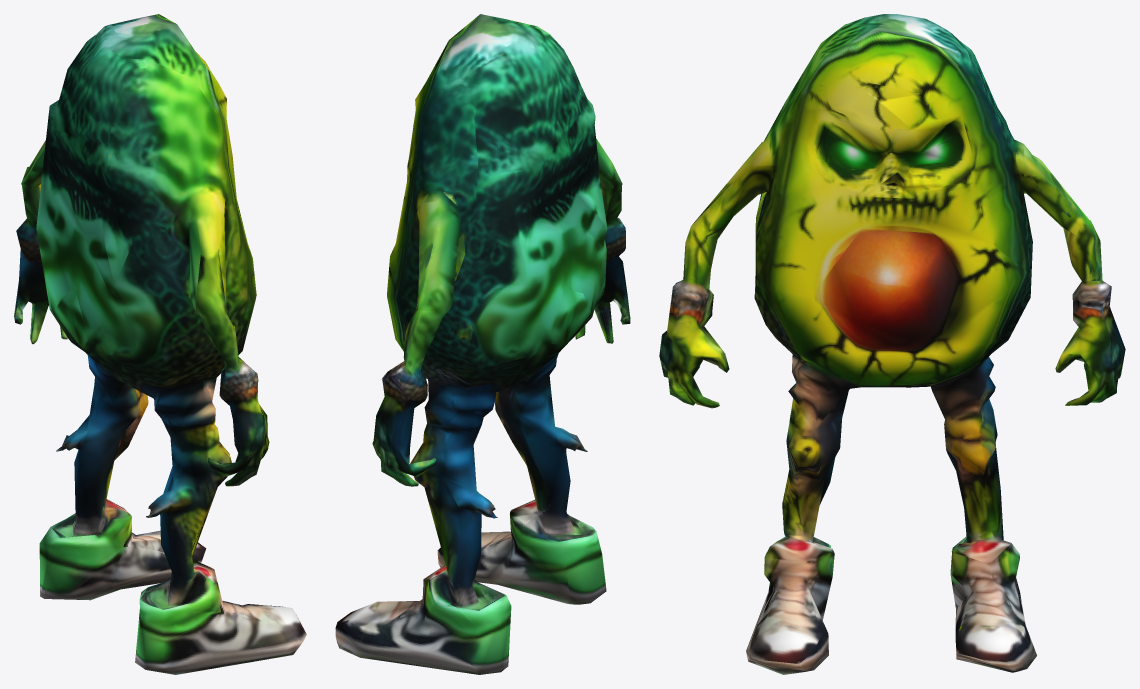
The model's file is zombie.glb.
3 views of the same model, side by side, from view 1: azimuth 30°, elevation 25°; view 2: azimuth 150°, elevation 25°; view 3: azimuth 270°, elevation 25° (orthographic).
Parts seen in each view (by area): view 1: Mesh1_Mesh1.003_Material.003_0; view 2: Mesh1_Mesh1.003_Material.003_0; view 3: Mesh1_Mesh1.003_Material.003_0.
Part boxes in pixels (box(x1,y1,x2,y2)): Mesh1_Mesh1.003_Material.003_0: box(14, 14, 306, 674); Mesh1_Mesh1.003_Material.003_0: box(335, 14, 630, 674); Mesh1_Mesh1.003_Material.003_0: box(659, 14, 1125, 674).
Bounding box in the file's own units: 0.6332 × 1.98 × 1.38.
1 material, 1 textured.
